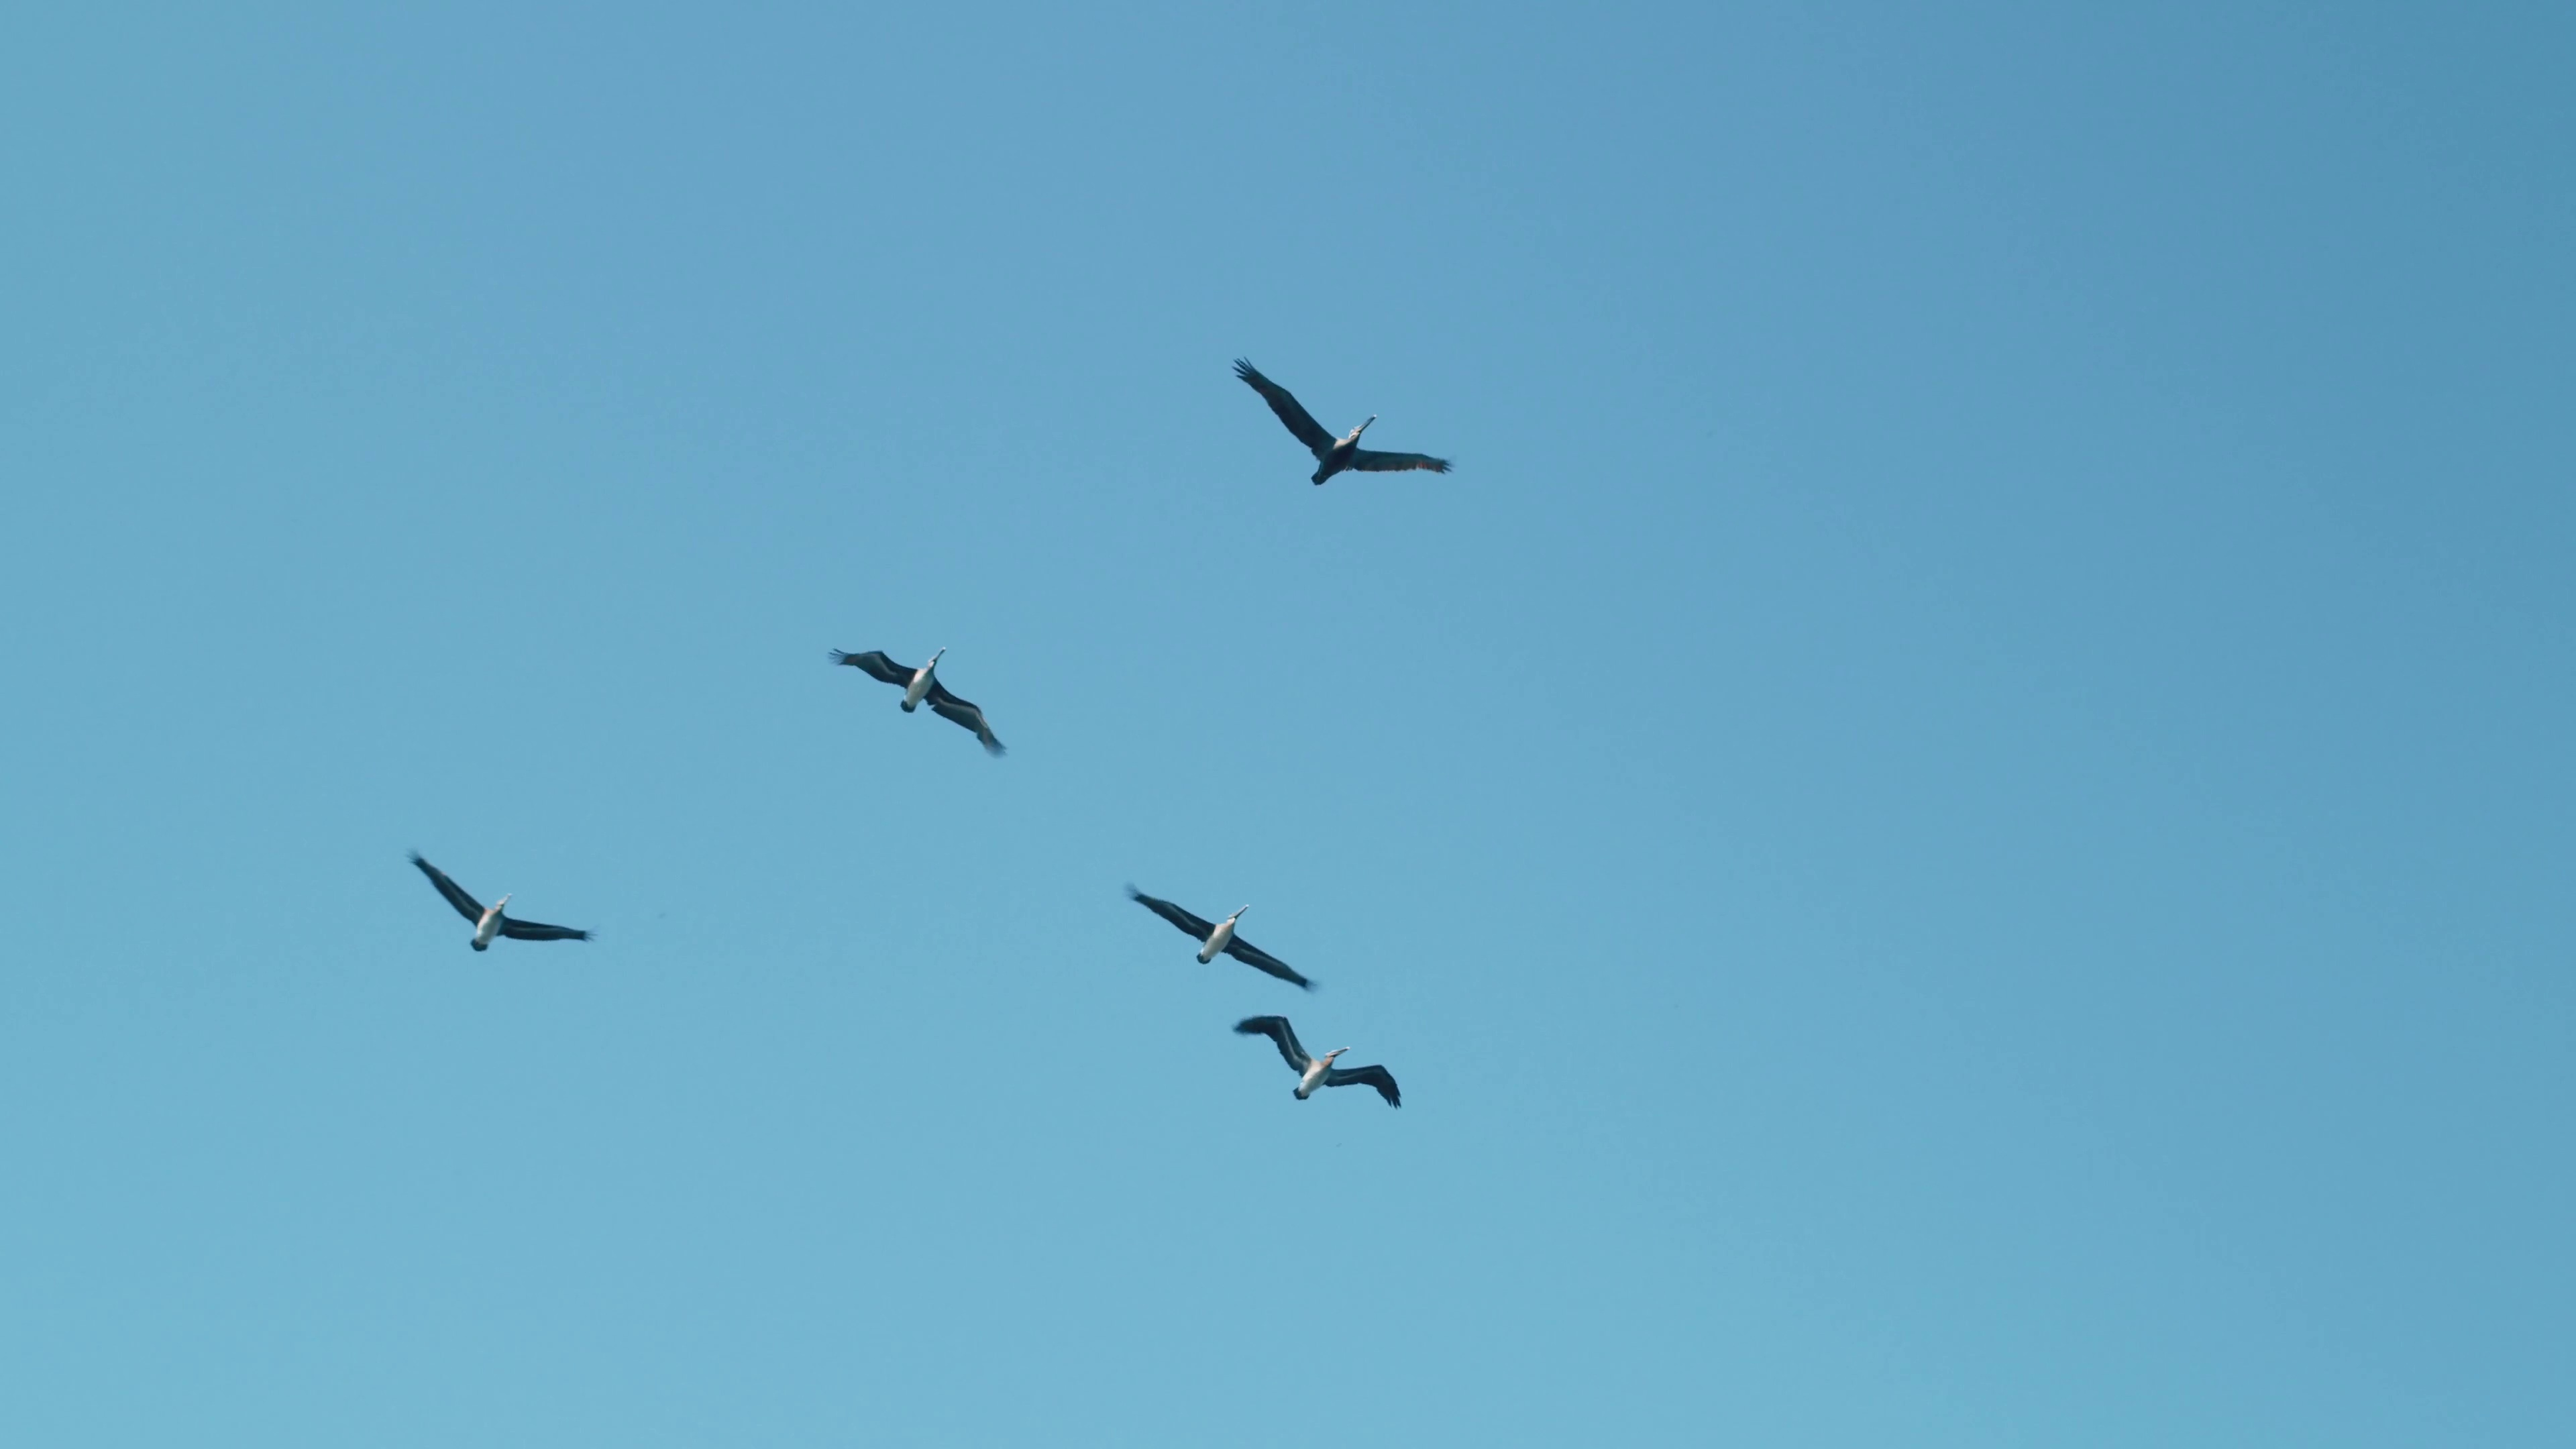bird: (1235, 357, 1456, 492), (821, 639, 1010, 759), (409, 846, 598, 955), (1131, 885, 1316, 994), (1224, 1010, 1399, 1118)
